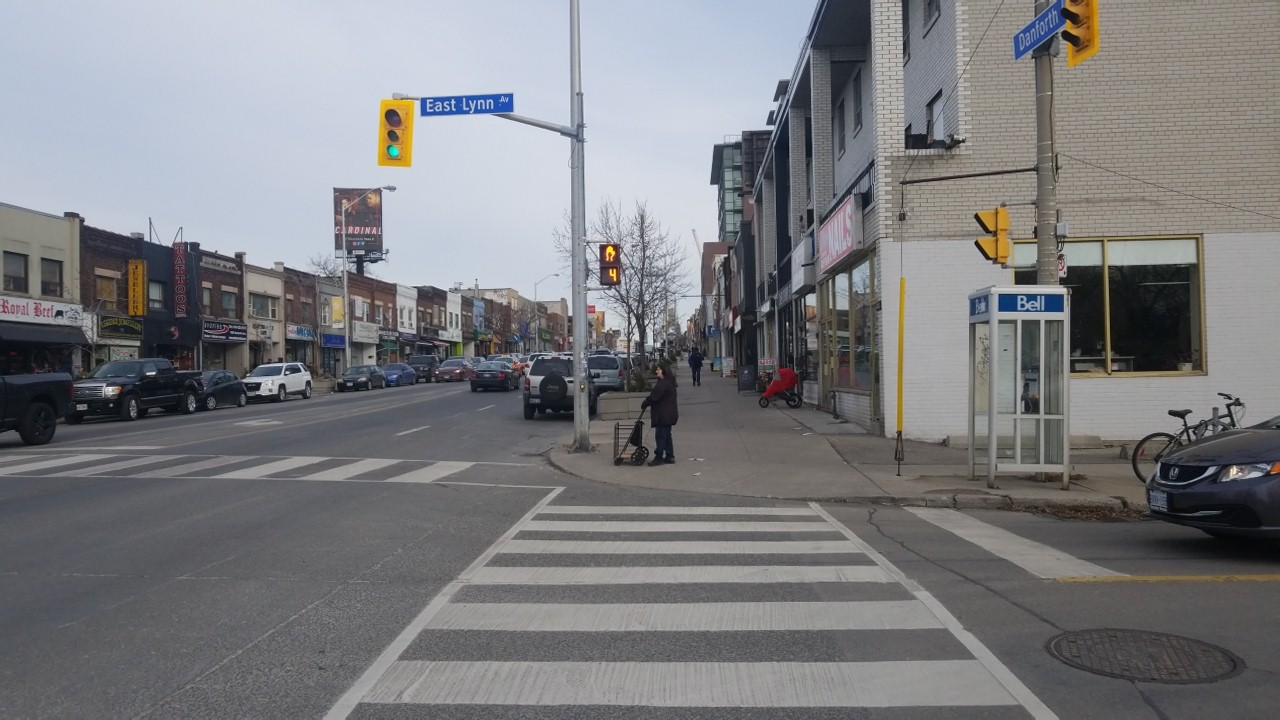light: (596, 241, 623, 288)
